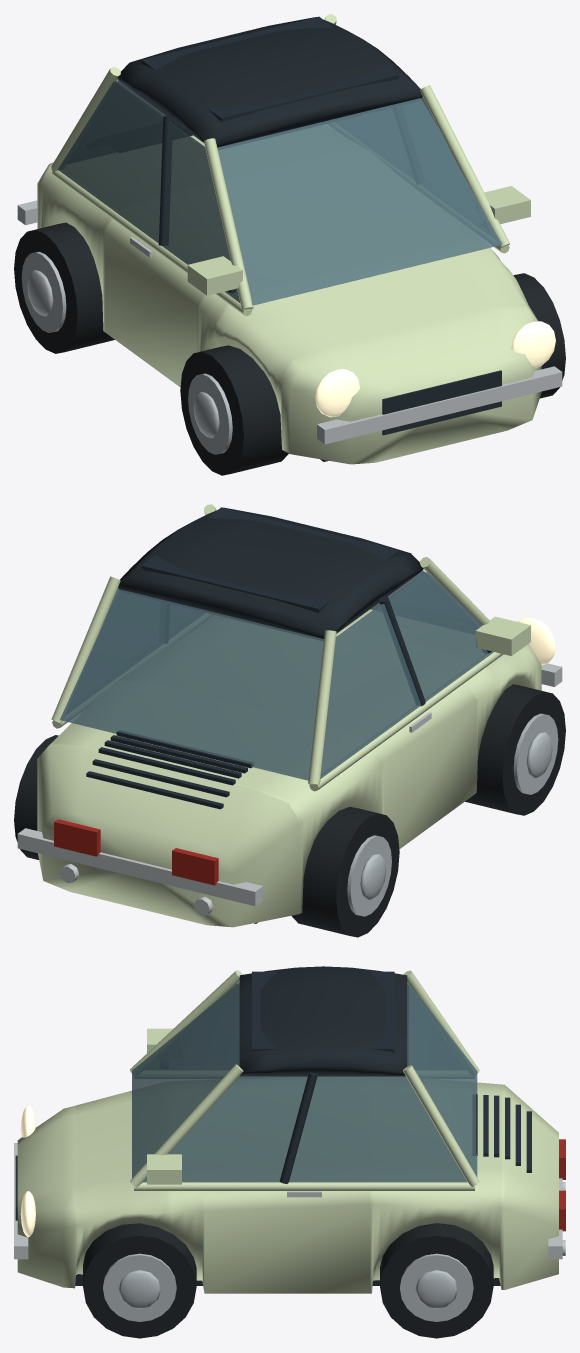
Rendered from bambino.glb.
3 renders of one model, top to bottom at view 1: azimuth 30°, elevation 25°; view 2: azimuth 150°, elevation 25°; view 3: azimuth 270°, elevation 25°, orthographic. The views are drawn at different scales.
Parts seen in each view (by area): view 1: exterior-paint, windows, secondary-paint, tire-front-left, tire-rear-left, black-trim, chrome, headlights, rim-rear-left, rim-front-left, tire-front-right; view 2: exterior-paint, windows, secondary-paint, black-trim, tire-rear-left, tire-front-left, chrome, rim-rear-left, rim-front-left, taillights, tire-rear-right, headlights; view 3: exterior-paint, windows, secondary-paint, tire-rear-right, tire-front-right, black-trim, rim-front-right, rim-rear-right, chrome, headlights, taillights.
Boxes of the visible parts, x1,y1,x2,y2 form: exterior-paint: (37, 14, 541, 464); windows: (58, 80, 502, 305); secondary-paint: (117, 17, 422, 147); tire-front-left: (180, 345, 288, 475); tire-rear-left: (14, 222, 114, 353); black-trim: (120, 16, 501, 461); chrome: (17, 200, 562, 444); headlights: (315, 321, 555, 417); rim-rear-left: (21, 251, 66, 332); rim-front-left: (188, 373, 232, 454); tire-front-right: (513, 273, 565, 398); exterior-paint: (37, 504, 541, 927); windows: (60, 570, 493, 780); secondary-paint: (118, 507, 423, 639); black-trim: (86, 507, 491, 923); tire-rear-left: (291, 806, 399, 937); tire-front-left: (465, 684, 565, 815); chrome: (17, 663, 562, 915); rim-rear-left: (347, 835, 391, 916); rim-front-left: (513, 713, 558, 794); taillights: (54, 819, 218, 885); tire-rear-right: (14, 735, 58, 859); headlights: (517, 617, 555, 665); exterior-paint: (17, 970, 558, 1293); windows: (132, 982, 477, 1182); secondary-paint: (239, 966, 407, 1076); tire-rear-right: (380, 1223, 493, 1338); tire-front-right: (83, 1223, 196, 1338); black-trim: (15, 971, 531, 1285); rim-front-right: (103, 1253, 176, 1321); rim-rear-right: (400, 1253, 473, 1321); chrome: (14, 1143, 565, 1259); headlights: (20, 1106, 35, 1237); taillights: (559, 1139, 565, 1231).
Size of the model in its own units: 1.63 by 1.33 by 2.53.
